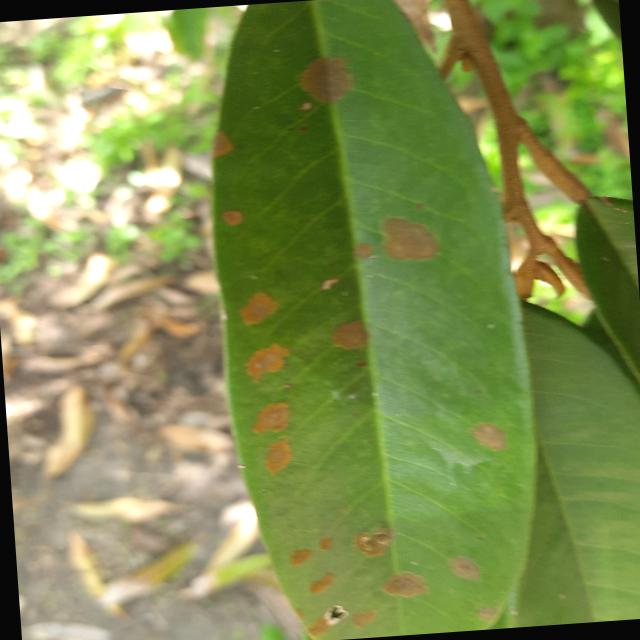Algal Leaf Spot: (185, 0, 558, 639)
